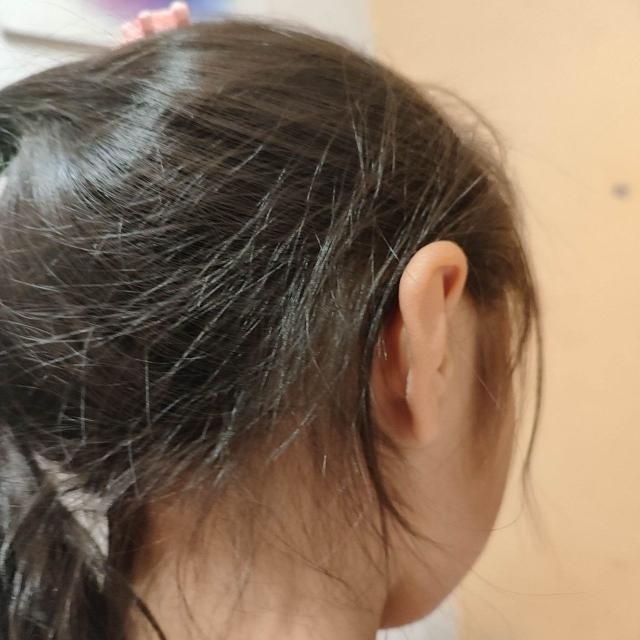ear: (399, 241, 466, 442)
